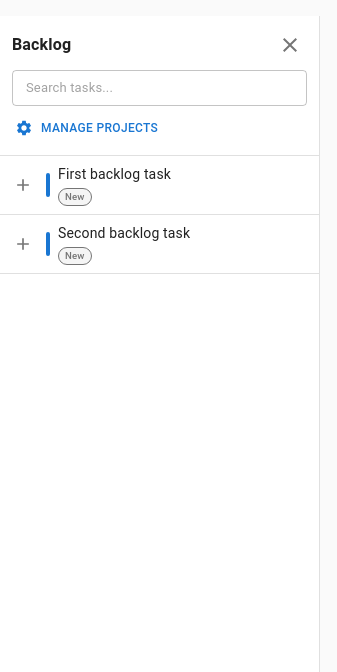
Test: BacklogDrawer › should filter tasks by search query
Expected: the text "First backlog task" is shown, [58, 166, 171, 182]
Expected: the text "Second backlog task" is shown, [58, 225, 190, 241]
Search for "First"
In the field with placeholder "Search tasks...": (160, 88) [12, 70, 307, 106], type "First"
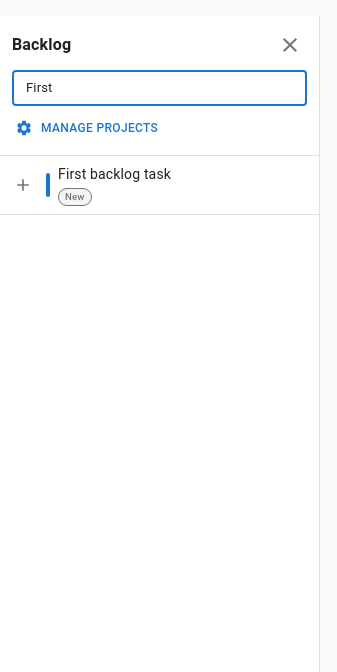
Expected: the text "First backlog task" is shown, [58, 166, 171, 182]
Now the text "Second backlog task" is gone
